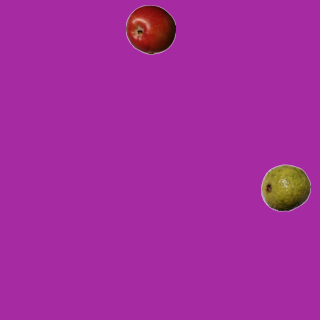Apple Braeburn: (125, 4, 175, 54)
Guava: (260, 162, 310, 212)
